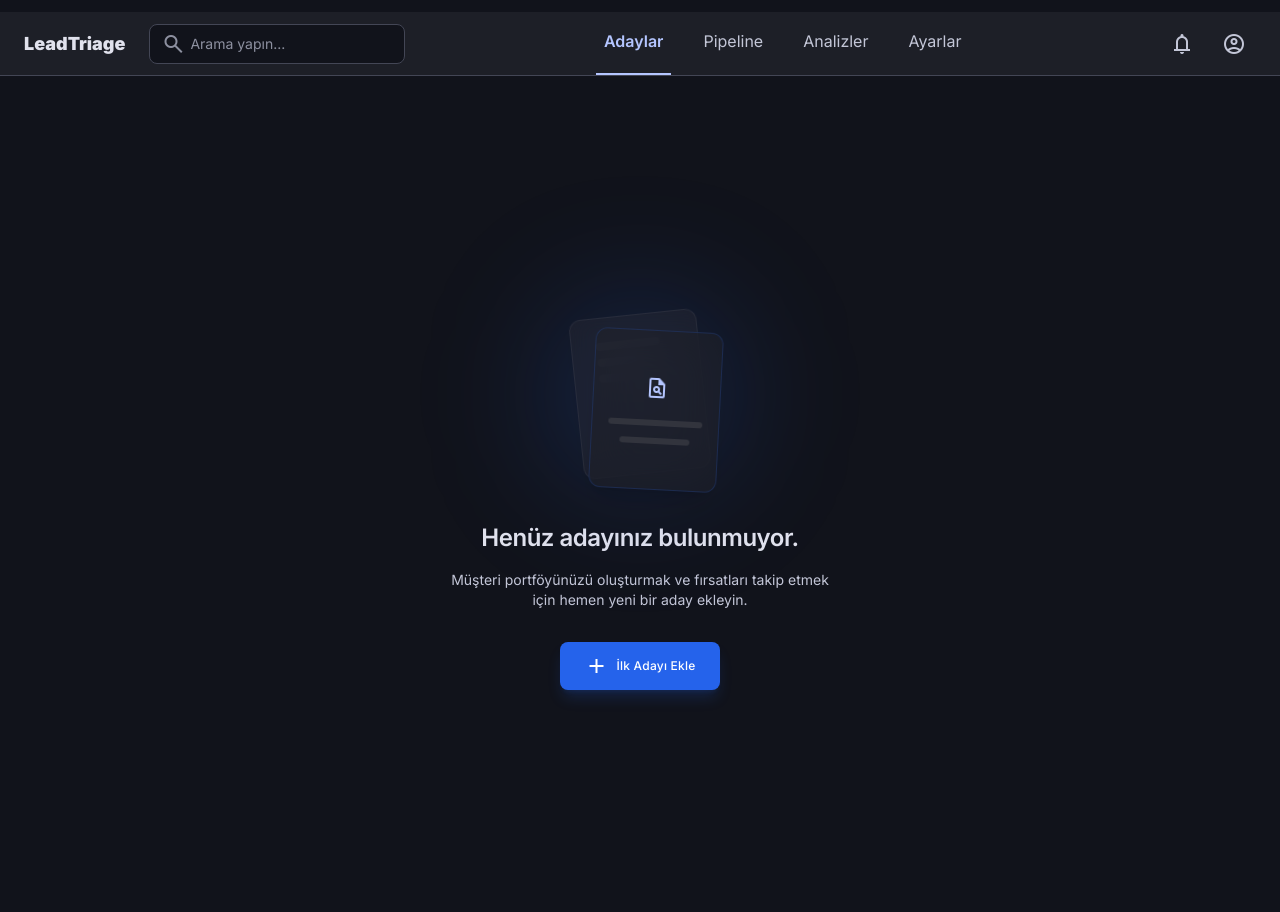
App › navigates to pipeline view
Step 1. Click the button "Pipeline" → click(733, 44), box [695,12,771,75]
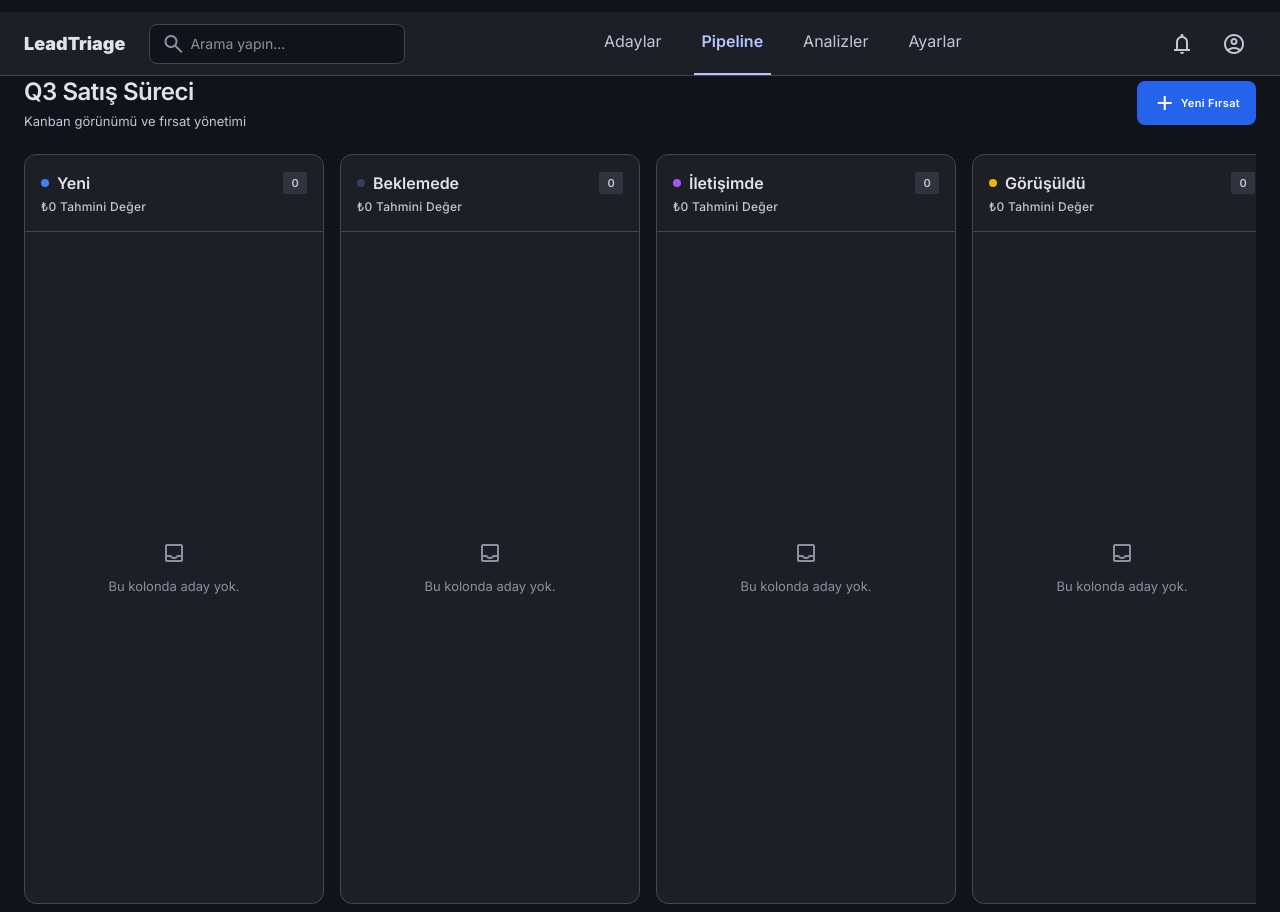
Now the heading "Q3 Satış Süreci" is shown, box [24,77,194,106]
